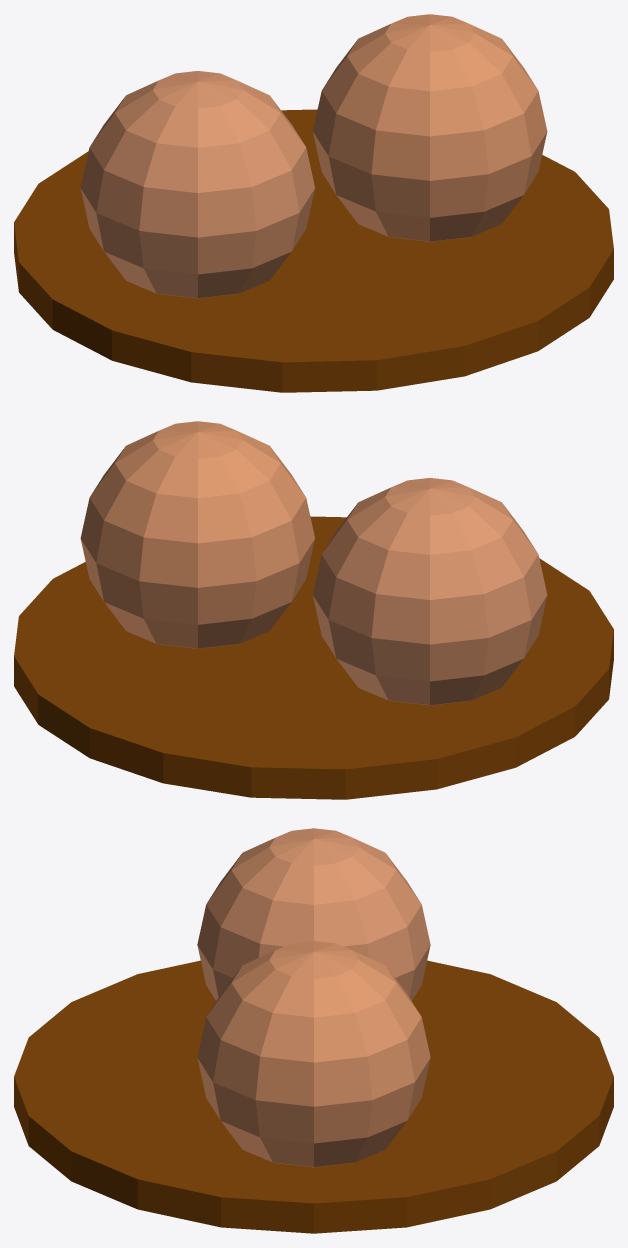
The model's file is gulab-jamun.glb.
The picture shows the model from 3 angles, top to bottom: view 1: azimuth 30°, elevation 25°; view 2: azimuth 150°, elevation 25°; view 3: azimuth 270°, elevation 25°; orthographic projection.
Size of the model in its own units: 0.36 by 0.14 by 0.36.
